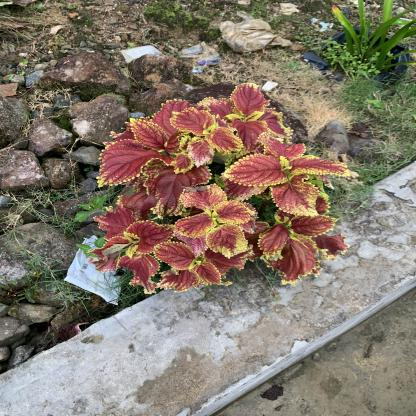Bunga Coleus: (89, 100, 357, 288)
